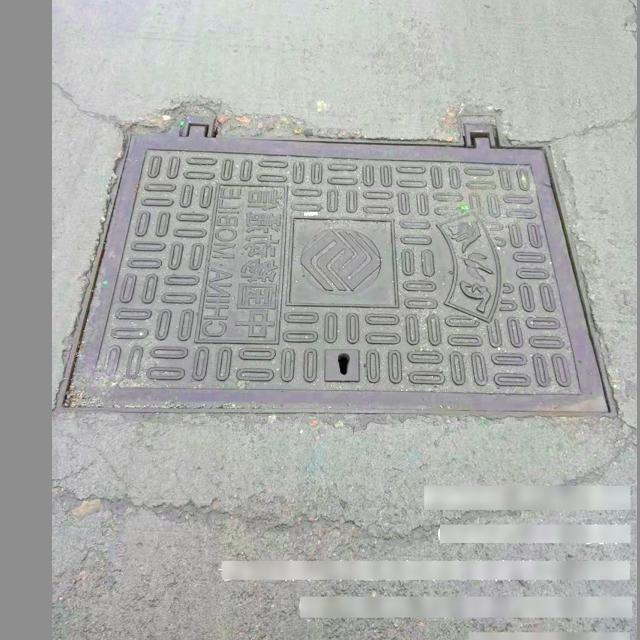good: (52, 112, 617, 417)
